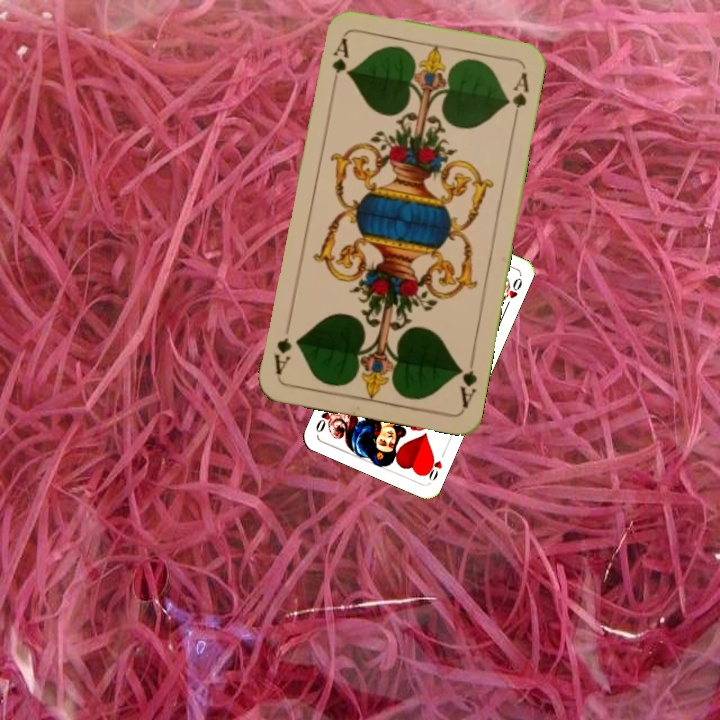GA: (454, 351, 480, 410), (327, 34, 351, 92)
HO: (421, 446, 448, 483)
